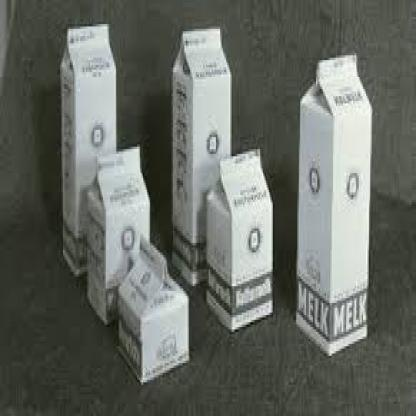CARDBOARD: (296, 48, 366, 356), (170, 22, 230, 286), (58, 22, 116, 274), (204, 145, 272, 334), (84, 139, 152, 327), (116, 236, 187, 384)
